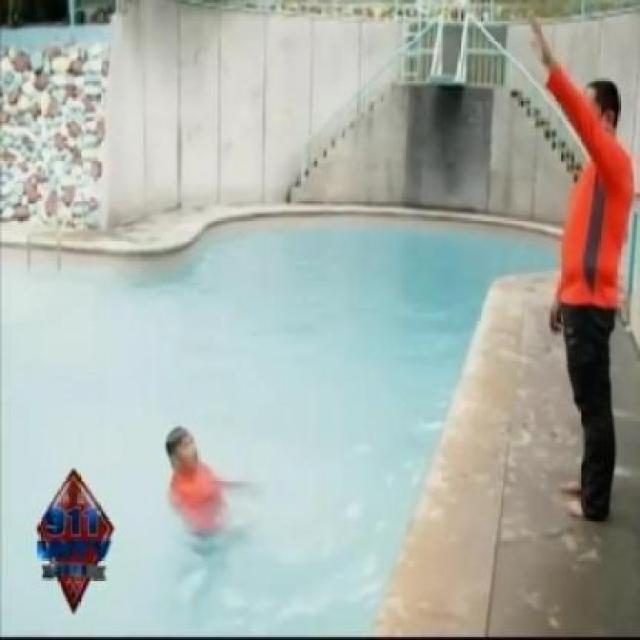drowning: (142, 414, 256, 564)
out of water: (519, 19, 636, 532)
